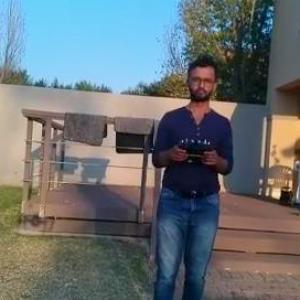follow: (142, 47, 238, 299)
